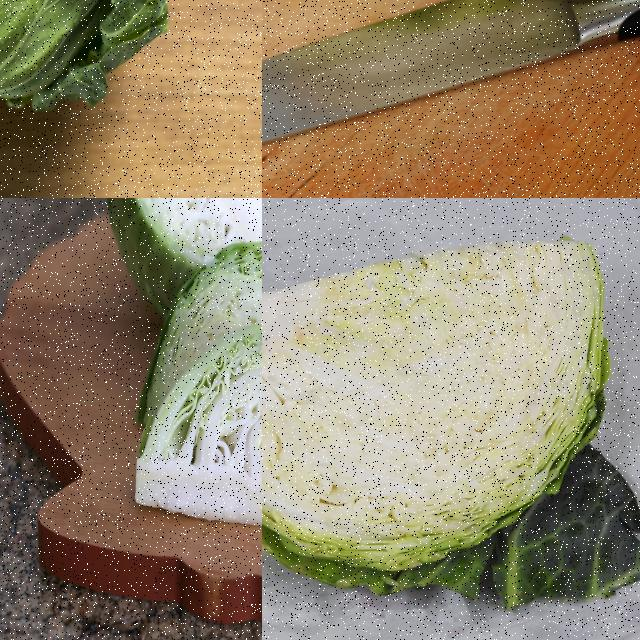cabbage: (262, 243, 611, 576), (138, 321, 261, 537), (139, 242, 261, 427), (0, 0, 172, 122), (101, 198, 261, 315)
